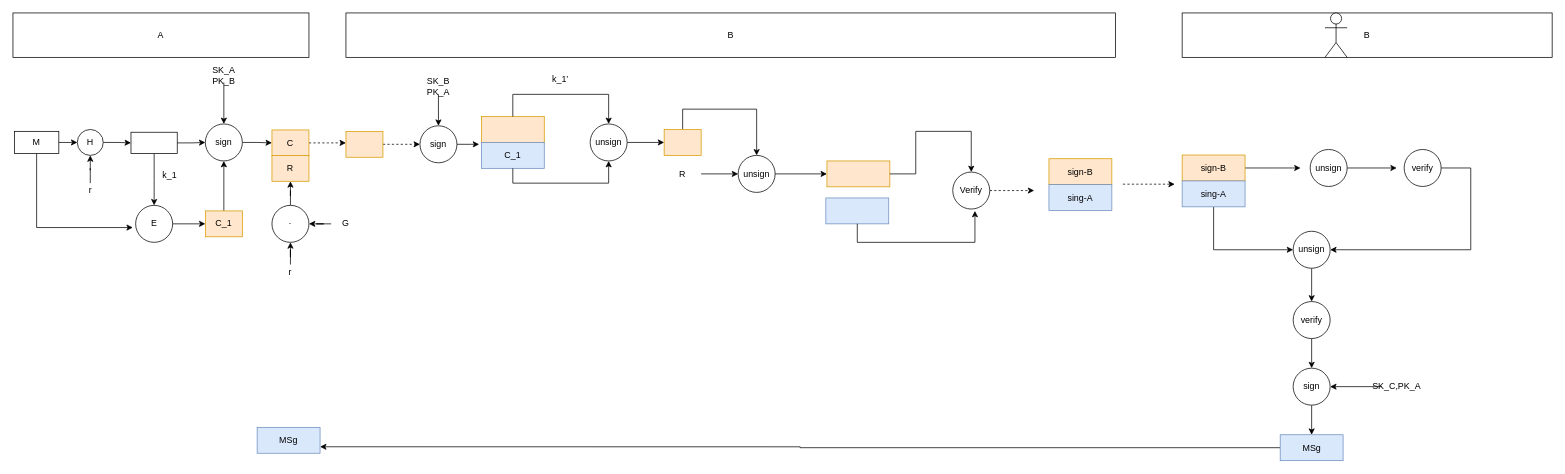
Some shapes in this 1565 by 474 pixel diagram are drawn without their labels. The centre of each missing label's shape, as x and y in pixels:
Actor: (1335,34)
C ': (364,144)
k_1,k_2: (858,173)
k_1‘,k_2’: (857,210)
k_1’,k_2‘: (512,129)
M‘: (682,142)
（k_1,k_2）: (153,142)
